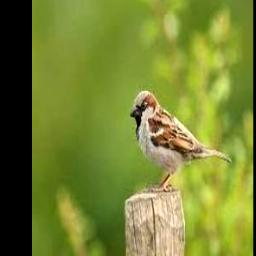Sparrow: (130, 90, 231, 191)
